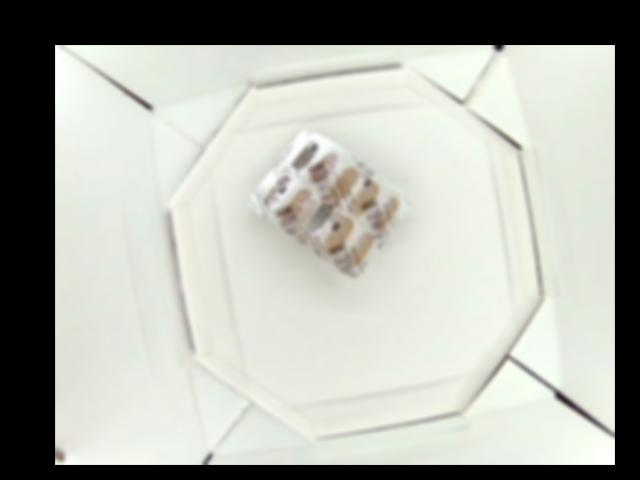Medicine: (251, 128, 411, 279)
